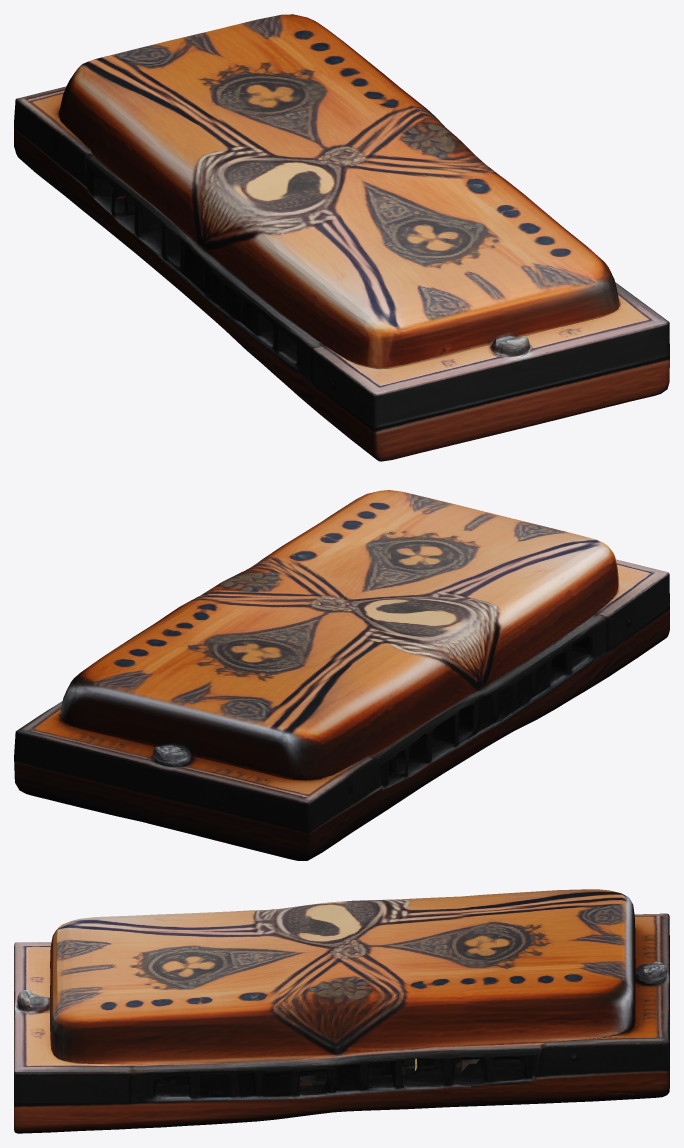
The model's file is wooden-harmonica-case-futuristic.jpeg.glb.
3 renders of one model, top to bottom at view 1: azimuth 30°, elevation 25°; view 2: azimuth 150°, elevation 25°; view 3: azimuth 270°, elevation 25°, orthographic. The views are drawn at different scales.
Visible parts, largest first — view 1: world; view 2: world; view 3: world.
Part boxes in pixels (x1,y1,x2,y2): world: [14, 14, 669, 461]; world: [14, 490, 669, 860]; world: [14, 889, 669, 1133].
Bounding box in the file's own units: 0.4757 × 0.2278 × 1.
Materials: 1 (1 with a texture image).
